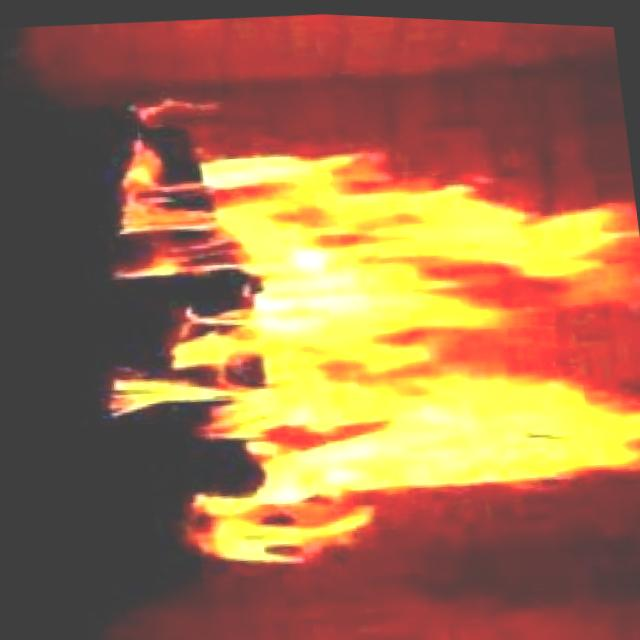helmet: (72, 47, 640, 582)
